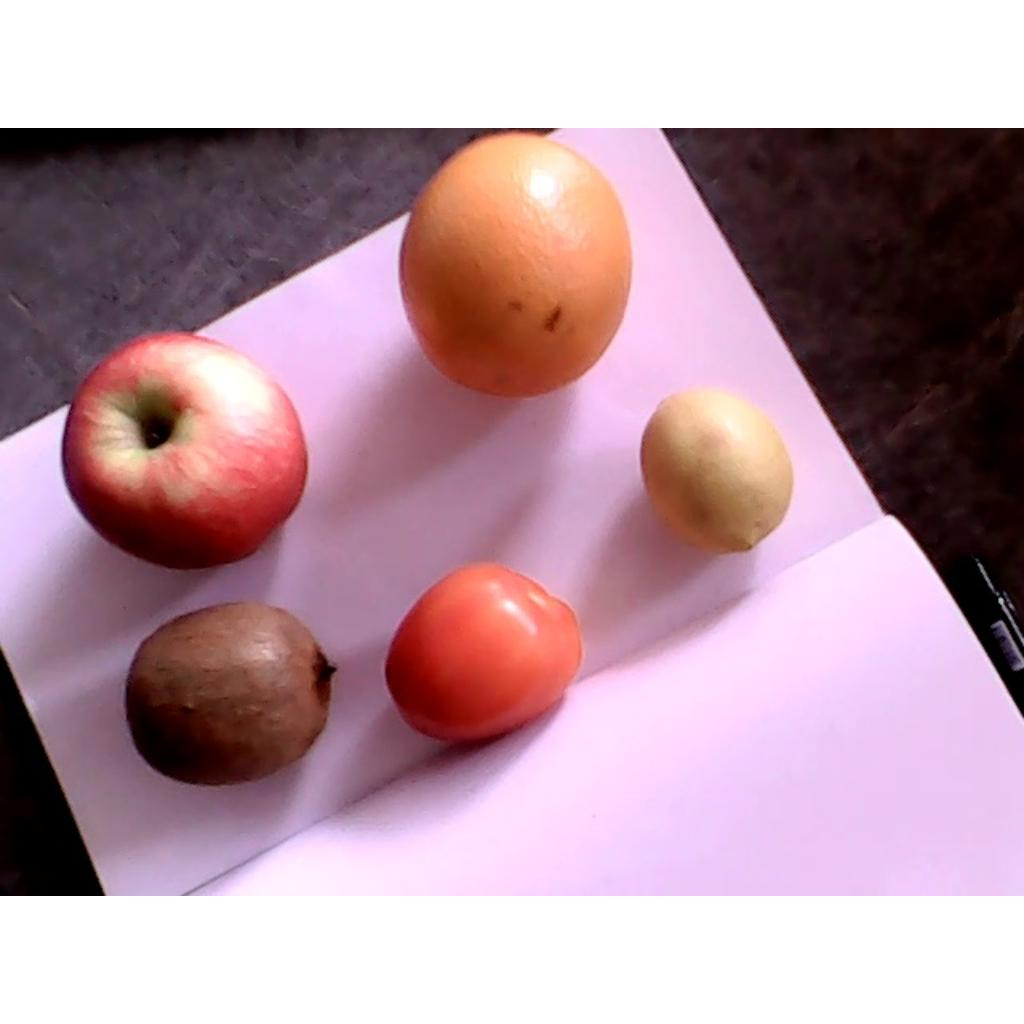apple: (60, 333, 309, 568)
kiwi: (123, 604, 338, 787)
lemon: (640, 390, 792, 551)
orange: (401, 135, 633, 399)
tomato: (384, 562, 583, 741)
